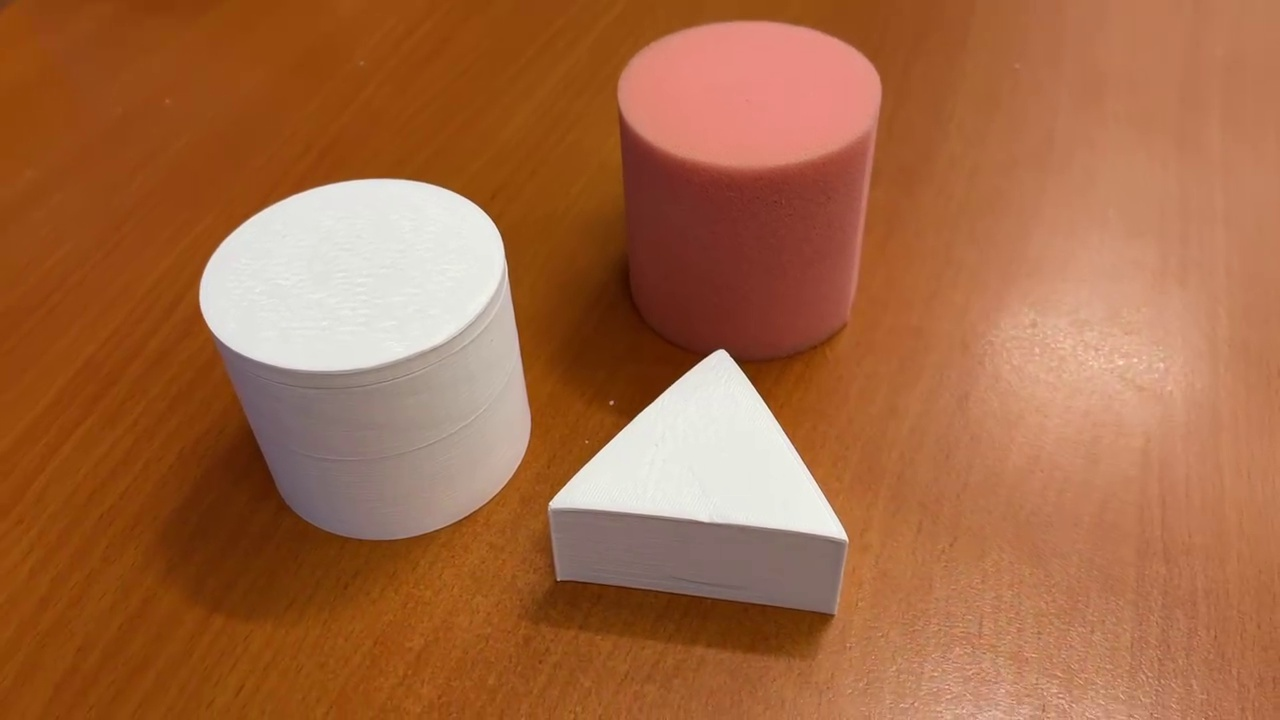Cylinder: (192, 169, 539, 551), (610, 18, 886, 371)
Triangle_short: (538, 339, 849, 632)
